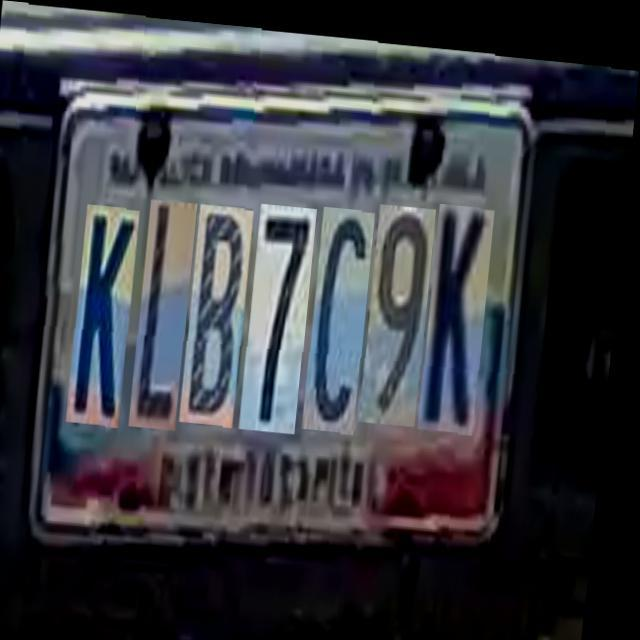7: (247, 195, 320, 424)
9: (367, 192, 439, 414)
B: (188, 198, 256, 420)
C: (310, 196, 378, 422)
K: (426, 190, 498, 419), (74, 202, 143, 424)
L: (137, 194, 200, 425)
